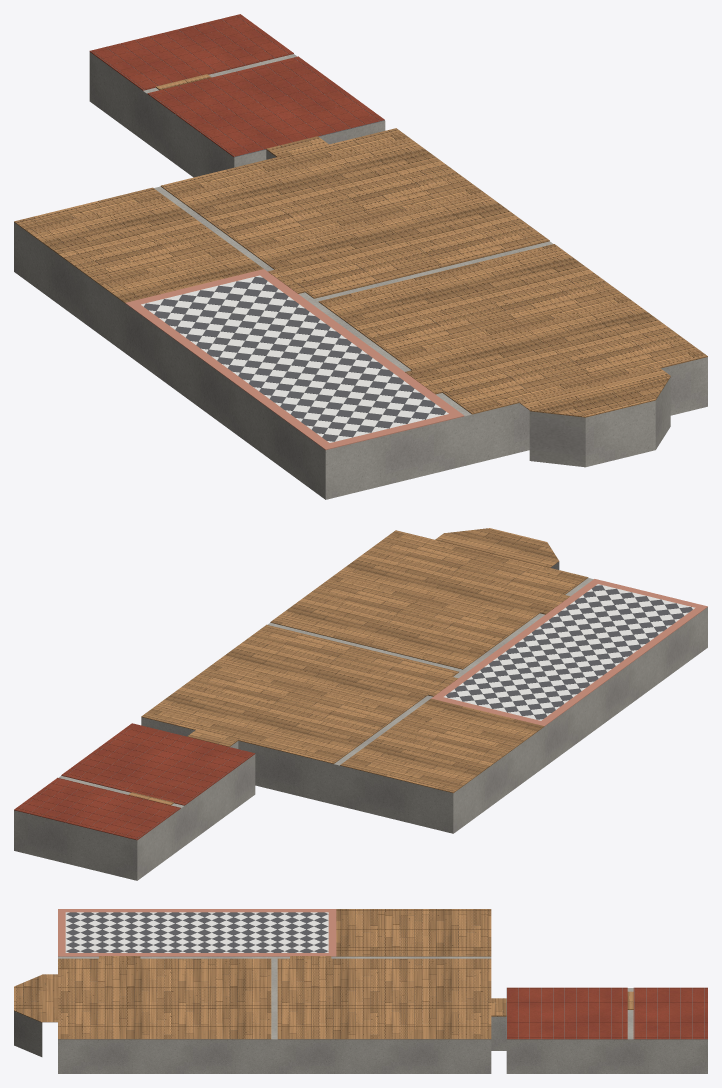
The model's file is slab_0_l.glb.
3 renders of one model, top to bottom at view 1: azimuth 30°, elevation 25°; view 2: azimuth 150°, elevation 25°; view 3: azimuth 270°, elevation 25°, orthographic. The views are drawn at different scales.
Parts seen in each view (by area): view 1: slab_0_l_wood, slab_0_l_conc_s, slab_0_l_quarry, slab_0_l_tile_b, slab_0_l_tile_w2, slab_0_l_tile_r, slab_0_l_grille; view 2: slab_0_l_wood, slab_0_l_conc_s, slab_0_l_quarry, slab_0_l_tile_b, slab_0_l_tile_w2, slab_0_l_tile_r, slab_0_l_grille; view 3: slab_0_l_wood, slab_0_l_conc_s, slab_0_l_quarry, slab_0_l_tile_b, slab_0_l_tile_w2, slab_0_l_tile_r, slab_0_l_grille.
Boxes of the visible parts, x1,y1,x2,y2 form: slab_0_l_wood: (14,74,707,417); slab_0_l_conc_s: (14,52,707,499); slab_0_l_quarry: (89,14,384,156); slab_0_l_tile_b: (144,277,445,441); slab_0_l_tile_w2: (141,275,448,442); slab_0_l_tile_r: (125,269,464,450); slab_0_l_grille: (93,18,445,439); slab_0_l_wood: (128,528,588,805); slab_0_l_conc_s: (14,562,707,880); slab_0_l_quarry: (14,723,255,840); slab_0_l_tile_b: (446,585,692,719); slab_0_l_tile_w2: (444,584,695,720); slab_0_l_tile_r: (431,579,707,726); slab_0_l_grille: (19,587,682,839); slab_0_l_wood: (14,909,633,1039); slab_0_l_conc_s: (14,956,707,1073); slab_0_l_quarry: (507,987,707,1039); slab_0_l_tile_b: (66,912,327,952); slab_0_l_tile_w2: (65,912,328,952); slab_0_l_tile_r: (58,909,336,956); slab_0_l_grille: (506,988,704,1038).
Size of the model in its own units: 5.95 by 0.756 by 13.45.
8 materials, 4 textured.
